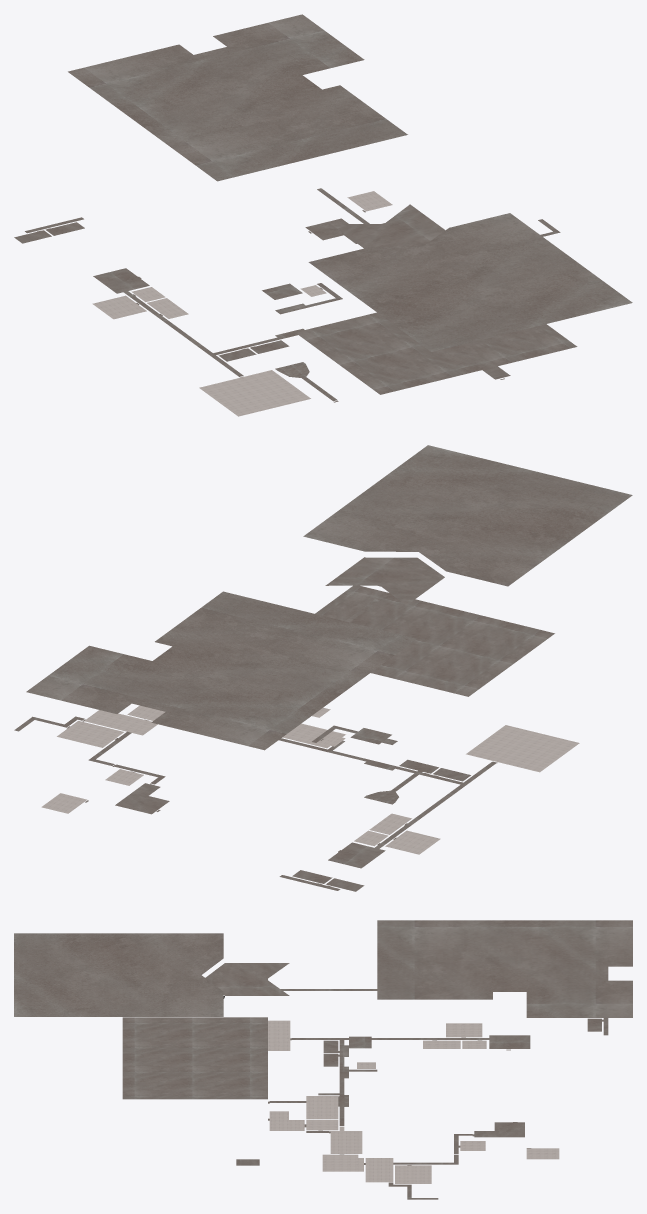
The model's file is ceiling (1).fbx.
3 views of the same model, one above another, from view 1: azimuth 30°, elevation 25°; view 2: azimuth 150°, elevation 25°; view 3: azimuth 270°, elevation 25° (orthographic). The views are drawn at different scales.
Parts seen in each view (by area): view 1: ceiling; view 2: ceiling; view 3: ceiling.
Part boxes in pixels (box(x1,y1,x2,y2)): ceiling: box(14, 14, 632, 416); ceiling: box(14, 445, 632, 891); ceiling: box(14, 920, 632, 1199).
Bounding box in the file's own units: 18202 × 7527 × 26473.
